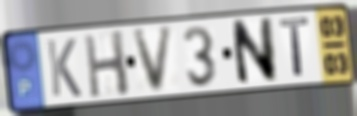3: (181, 24, 219, 89)
H: (81, 28, 132, 100)
K: (44, 36, 84, 99)
N: (228, 15, 279, 89)
T: (277, 15, 313, 79)
V: (130, 23, 176, 96)
